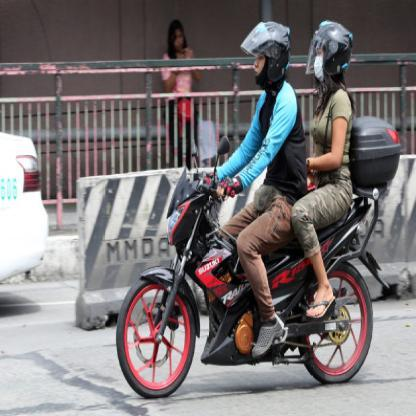helmet: (240, 20, 292, 87), (310, 20, 354, 84)
nohelmet: (167, 18, 187, 53)
